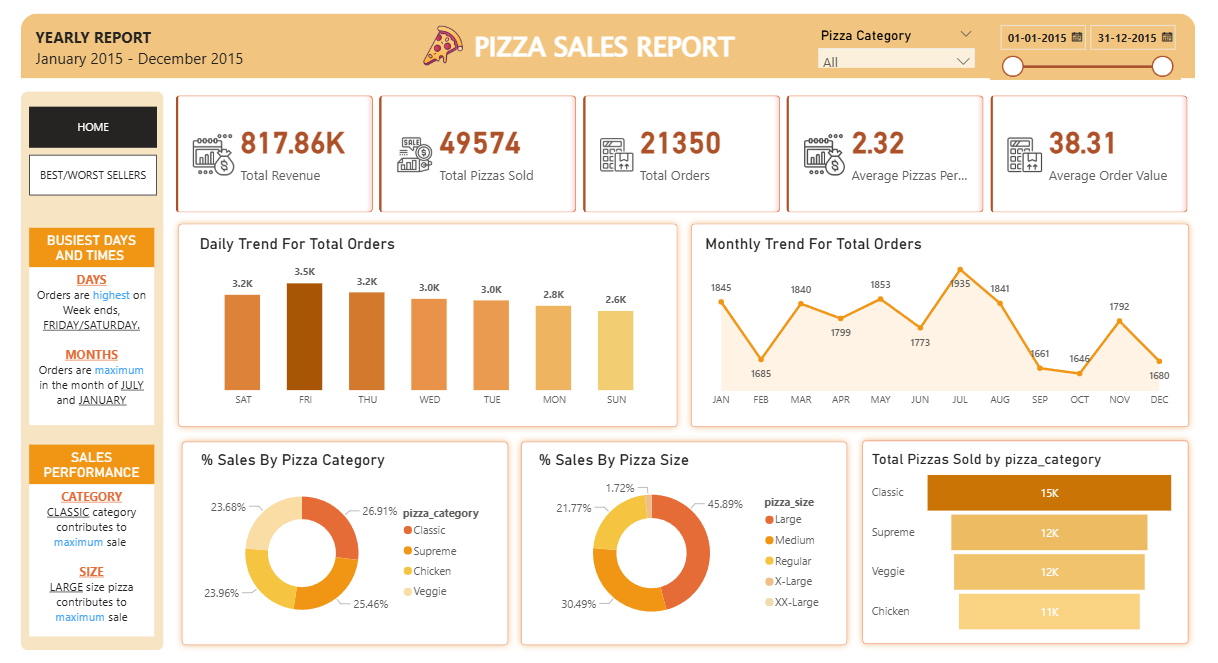

The page's visual inventory and layout, read from the dashboard file:
{"tool":"powerbi","page":{"name":"HOME","canvas":[1500,820],"ordinal":0},"visuals":[{"type":"shape","box":[27.5,112.7,175.6,686.6],"z":0},{"type":"cardVisual","fields":{"Data":["pizza_sales.Total Revenue","pizza_sales.Total Pizzas Sold","pizza_sales.Total Orders","pizza_sales.Average Pizzas Per Order","pizza_sales.Average Order Value"]},"box":[212.9,112.9,1256.5,154.8],"z":1000},{"type":"shape","box":[28,18,1442,80],"z":2000},{"type":"textbox","box":[560,30,378.3,60],"z":3000},{"type":"image","box":[515,28.3,63.3,58.3],"z":4000},{"type":"shape","box":[213.6,267.3,628.9,266],"z":5000},{"type":"columnChart","title":"Daily Trend For Total Orders","fields":{"Category":["pizza_sales.Order Day"],"Y":["pizza_sales.Total Orders"]},"box":[242.4,289.6,575.2,221.4],"z":6000},{"type":"shape","box":[842.5,267.3,627.6,266],"z":7000},{"type":"areaChart","title":"Monthly Trend For Total Orders","fields":{"Category":["pizza_sales.Order Month"],"Y":["pizza_sales.Total Orders"]},"box":[863.5,289.6,587,221.4],"z":8000},{"type":"shape","box":[217.5,535.9,416.7,266],"z":9000},{"type":"shape","box":[634.2,534.6,416.7,266],"z":10000},{"type":"shape","box":[1053.5,533.3,416.7,266],"z":11000},{"type":"donutChart","title":"% Sales By Pizza Category","fields":{"Category":["pizza_sales.pizza_category"],"Y":["pizza_sales.Total Revenue"]},"box":[243.7,554.3,366.9,229.3],"z":12000},{"type":"donutChart","title":"% Sales By Pizza Size","fields":{"Category":["pizza_sales.pizza_size"],"Y":["pizza_sales.Total Revenue"]},"box":[659.1,554.3,366.9,229.3],"z":13000},{"type":"funnel","fields":{"Category":["pizza_sales.pizza_category"],"Y":["pizza_sales.Total Pizzas Sold"]},"box":[1067.9,554.3,382.6,229.3],"z":14000},{"type":"textbox","box":[38,280.4,153.3,48.5],"z":15000},{"type":"textbox","box":[38,328.9,153.3,193.9],"z":16000},{"type":"textbox","box":[38,596.2,153.3,187.4],"z":17000},{"type":"textbox","box":[38,547.7,153.3,48.5],"z":18000},{"type":"slicer","fields":{"Values":["pizza_sales.pizza_category"]},"box":[996.7,30,211.7,55],"z":19000},{"type":"slicer","fields":{"Values":["pizza_sales.order_date"]},"box":[1218.3,21.7,233.3,76.7],"z":20000},{"type":"pageNavigator","box":[37.8,132.2,157.8,50],"z":21000},{"type":"pageNavigator","box":[37.8,191.1,157.8,50],"z":22000},{"type":"textbox","box":[41.7,30,280,60],"z":23000}]}

Visuals, with their boxes in screenshot pixels (x1, y1, x2, y2), scaled from the page's 1500x820 canvas onto the 1218x663 screenshot:
shape: 22, 91, 165, 646
cardVisual - pizza_sales.Total Revenue x pizza_sales.Total Pizzas Sold: 173, 91, 1193, 216
shape: 23, 15, 1194, 79
textbox: 455, 24, 762, 73
image: 418, 23, 470, 70
shape: 173, 216, 684, 431
"Daily Trend For Total Orders" columnChart: 197, 234, 664, 413
shape: 684, 216, 1194, 431
"Monthly Trend For Total Orders" areaChart: 701, 234, 1178, 413
shape: 177, 433, 515, 648
shape: 515, 432, 853, 647
shape: 855, 431, 1194, 646
"% Sales By Pizza Category" donutChart: 198, 448, 496, 634
"% Sales By Pizza Size" donutChart: 535, 448, 833, 634
funnel - pizza_sales.pizza_category x pizza_sales.Total Pizzas Sold: 867, 448, 1178, 634
textbox: 31, 227, 155, 266
textbox: 31, 266, 155, 423
textbox: 31, 482, 155, 634
textbox: 31, 443, 155, 482
slicer - pizza_sales.pizza_category: 809, 24, 981, 69
slicer - pizza_sales.order_date: 989, 18, 1179, 80
pageNavigator: 31, 107, 159, 147
pageNavigator: 31, 155, 159, 195
textbox: 34, 24, 261, 73
